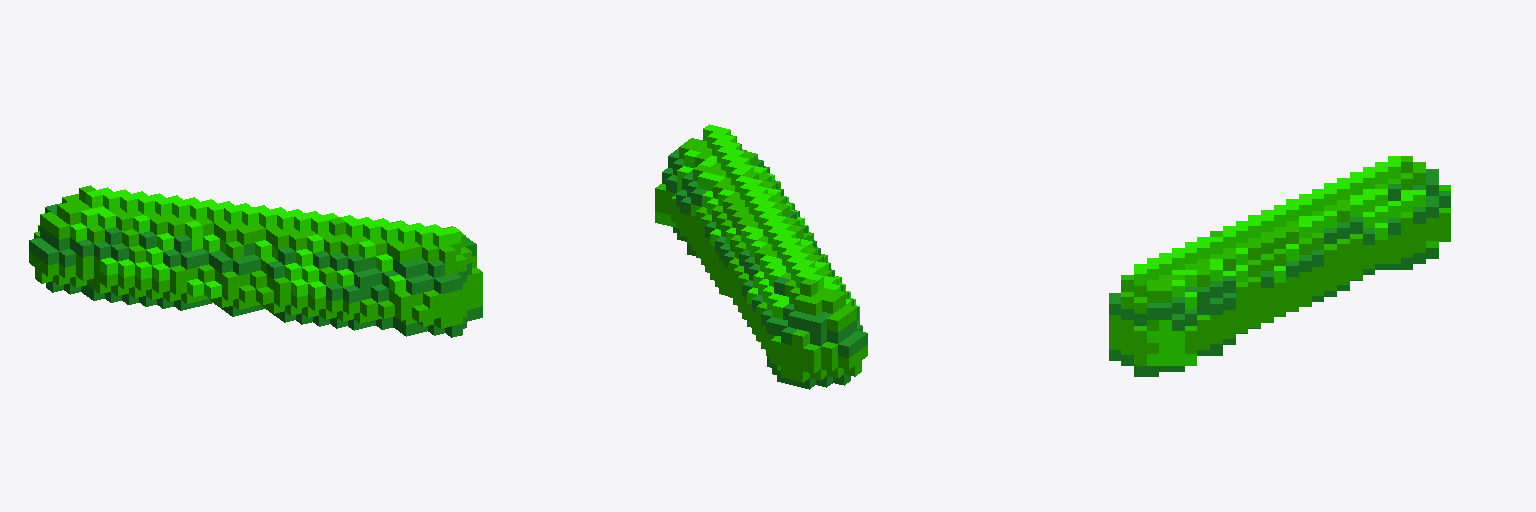
The picture shows the model from 3 angles: view 1: azimuth 30°, elevation 25°; view 2: azimuth 150°, elevation 25°; view 3: azimuth 270°, elevation 25°; orthographic projection.
Visible parts, largest first — view 1: object 1; view 2: object 1; view 3: object 1.
Boxes of the visible parts, x1=… form: object 1: x1=29, y1=185, x2=482, y2=337; object 1: x1=655, y1=124, x2=867, y2=389; object 1: x1=1109, y1=156, x2=1450, y2=376.
Size of the model in its own units: 2.8 by 0.8 by 2.7.
1 materials, 1 textured.